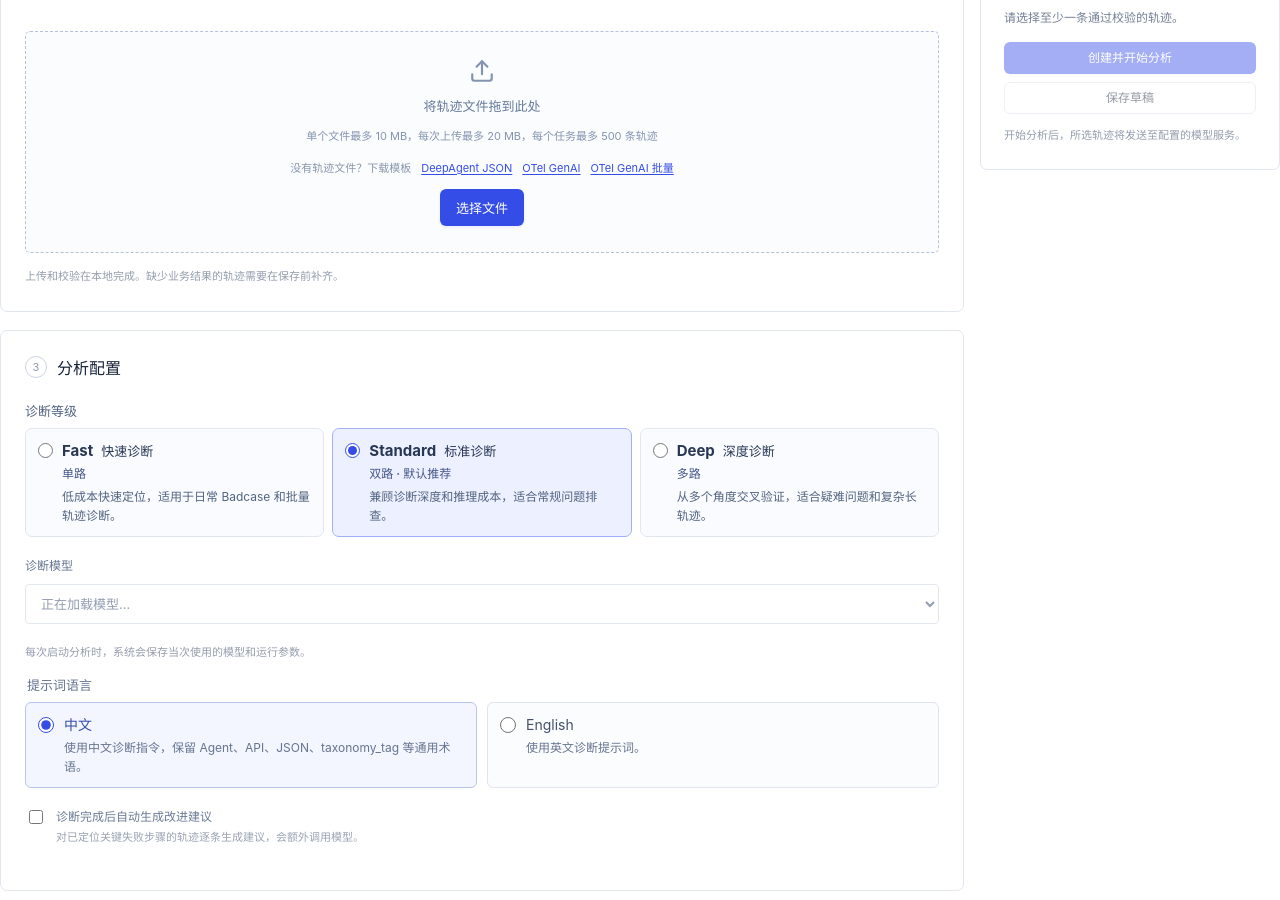
preselects Standard, describes when to use each level, and saves Deep
Later steps or results of the test are not shown.
(page scrolled)
Expected: the radio button labelled "Standard 标准诊断 双路 · 默认推荐 兼顾诊断深度和推理成本，适合常规问题排查。" is checked, [345,443,360,458]
Expected: the checkbox labelled "诊断完成后自动生成改进建议 对已定位关键失败步骤的轨迹逐条生成建议，会额外调用模型。" is not checked, [29,810,43,824]
Click the radio button labelled "Deep 深度诊断" at x=660, y=451, box [653,443,668,458]
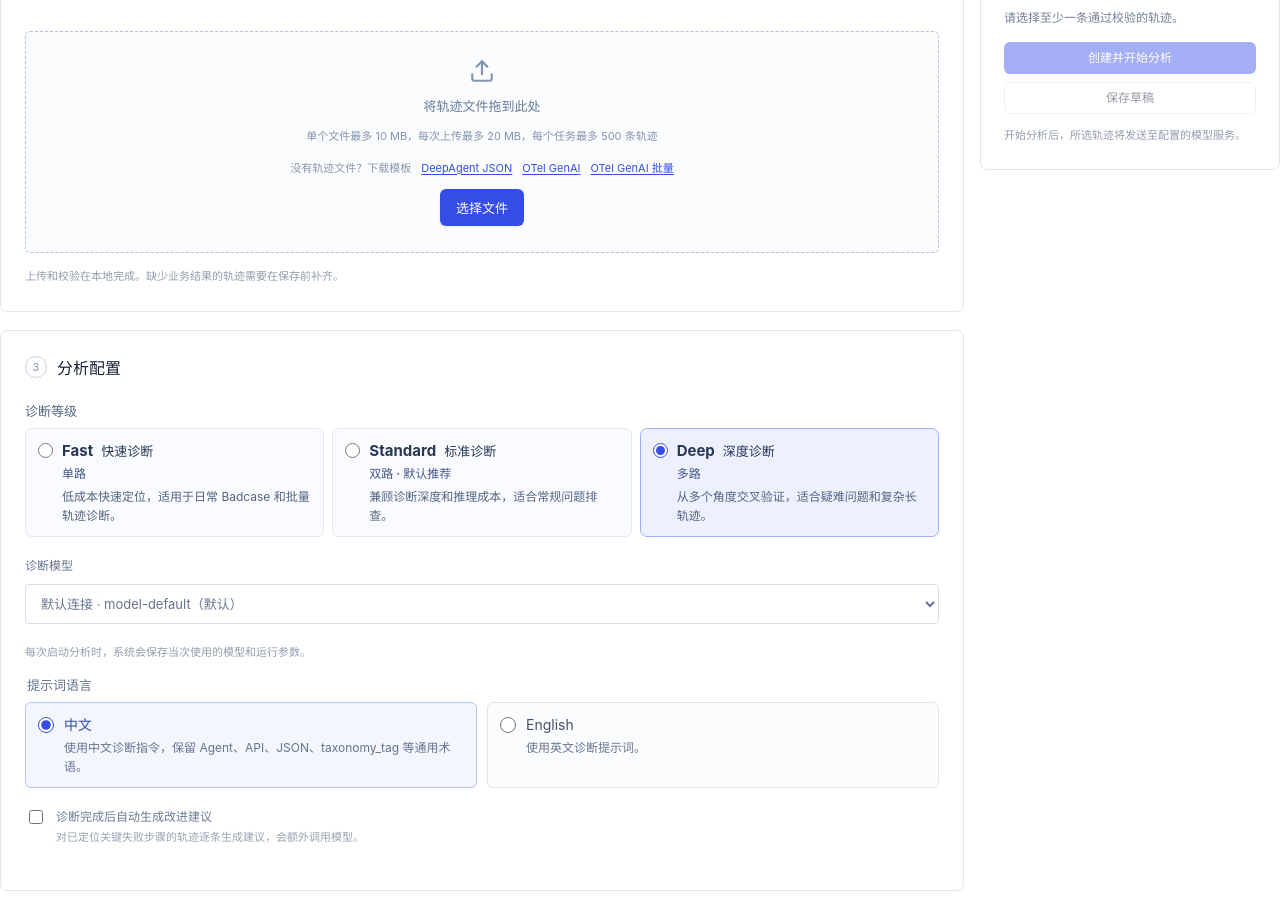
Expected: the checkbox labelled "诊断完成后自动生成改进建议 对已定位关键失败步骤的轨迹逐条生成建议，会额外调用模型。" is shown, [29,810,43,824]
Result: the dropdown labelled "诊断模型" shows "默认连接 · model-default（默认）"
Select "备用连接 · model-alternate" in the dropdown labelled "诊断模型" at x=482, y=604, box [25,584,939,624]
(page scrolled)
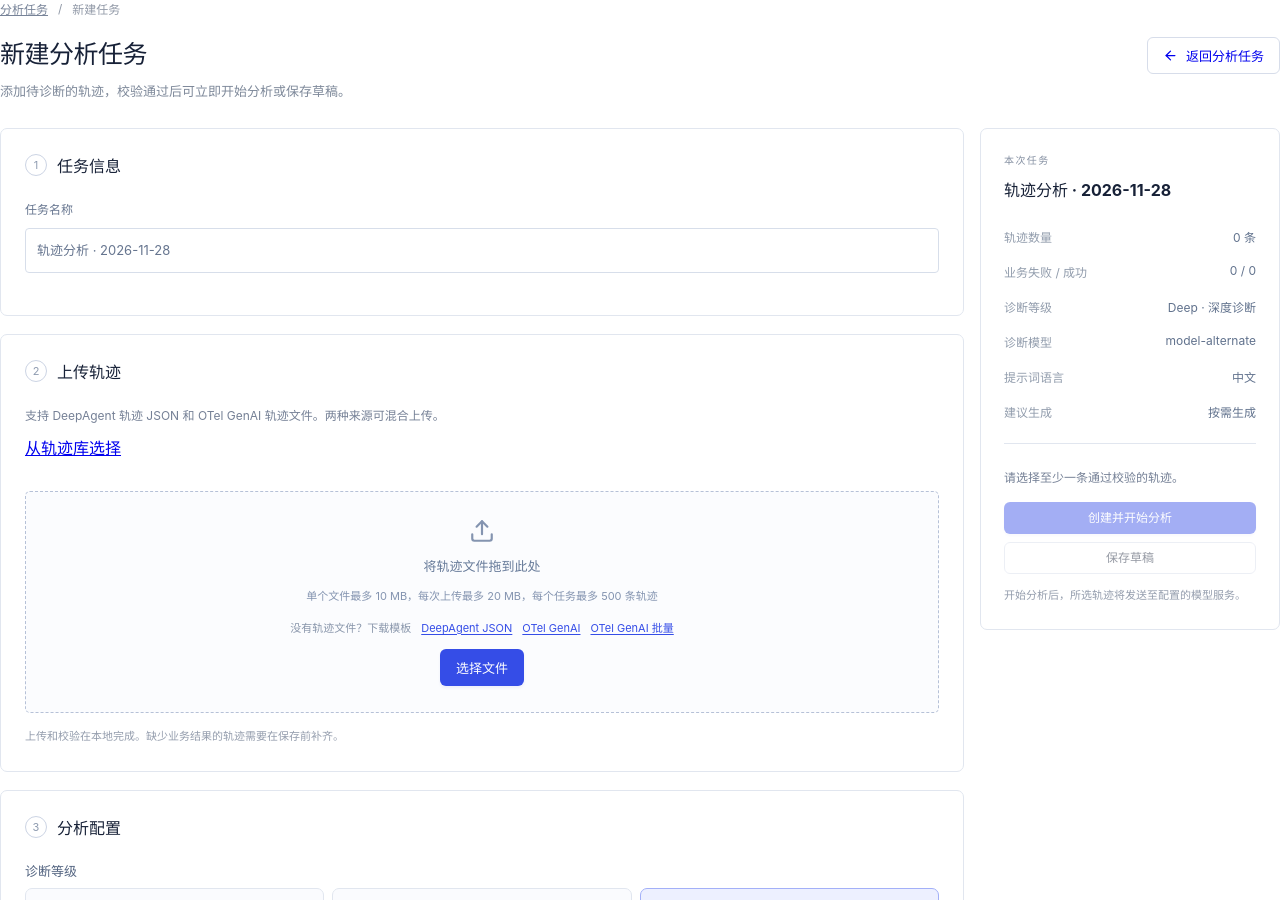
Result: the text "model-alternate" is shown at [1166,333,1256,348]
